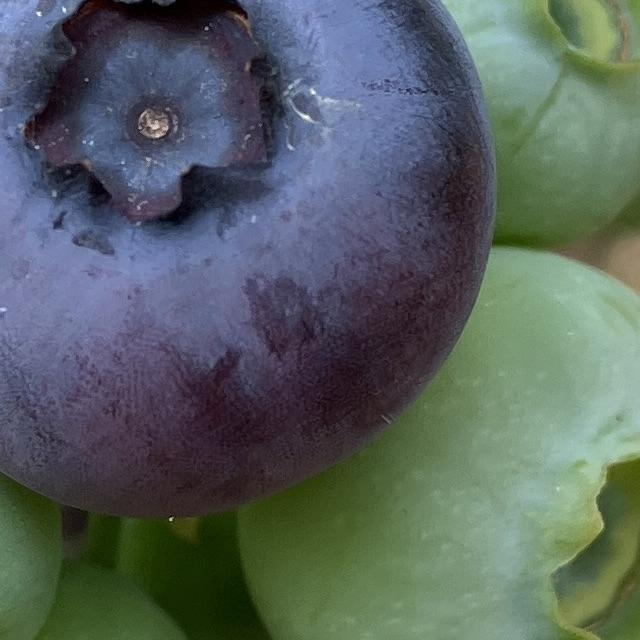Blueberries: (0, 0, 498, 519)
